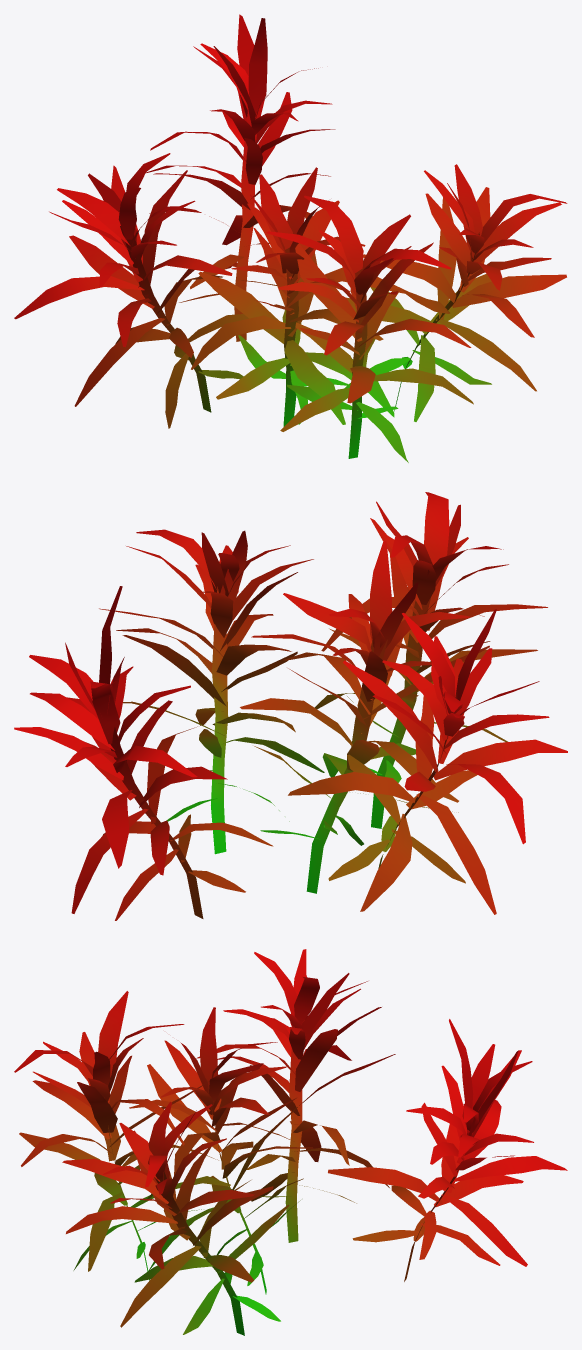
Rendered from Butterfly Weed_LOD3_Var6.fbx.
The picture shows the model from 3 angles, top to bottom: view 1: azimuth 30°, elevation 25°; view 2: azimuth 150°, elevation 25°; view 3: azimuth 270°, elevation 25°; orthographic projection. The views are drawn at different scales.
Visible parts, largest first — view 1: _53wj_Var6_LOD3; view 2: _53wj_Var6_LOD3; view 3: _53wj_Var6_LOD3.
Part boxes in pixels (bbox=[...]): _53wj_Var6_LOD3: bbox=[14, 14, 567, 462]; _53wj_Var6_LOD3: bbox=[14, 492, 567, 920]; _53wj_Var6_LOD3: bbox=[14, 949, 567, 1335].
Bounding box in the file's own units: 69.19 × 46.72 × 76.36.
